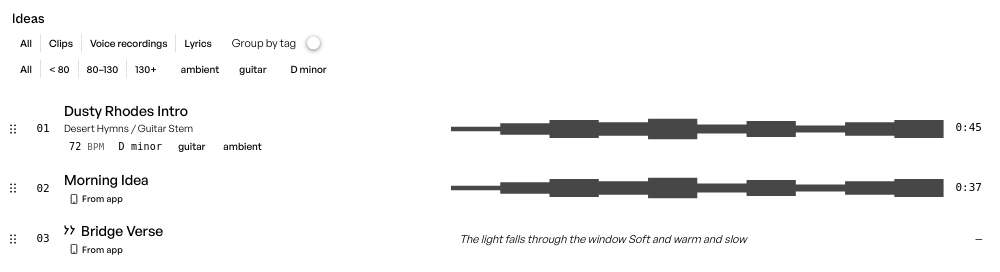
IdeasLibrary — kind segmented › BPM filter hides when Voice is selected, shows when All
Click the radio button labelled "Voice recordings" at (129, 43), box [82, 34, 176, 52]
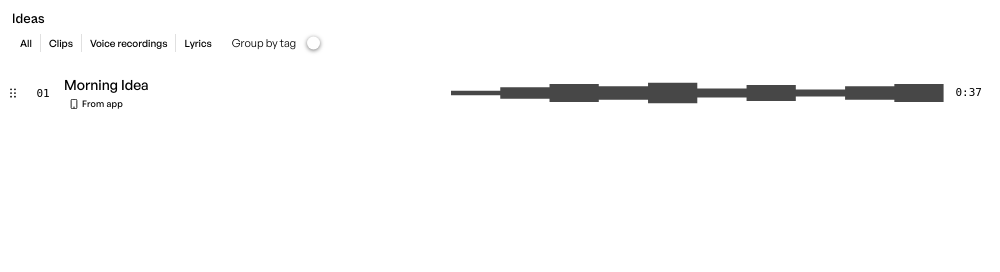
Click the radio button labelled "All" at (26, 43), box [12, 34, 41, 52]
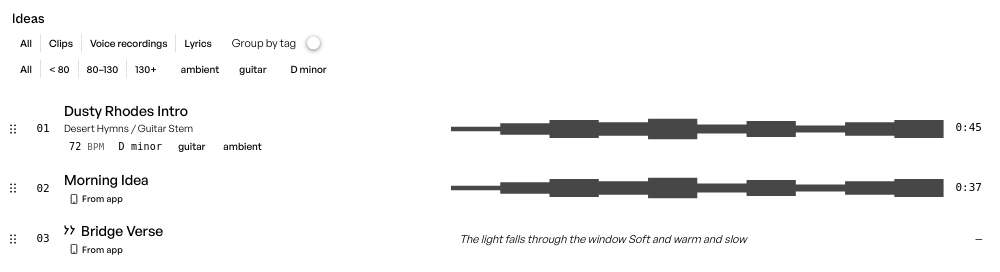
Expected: the element named "BPM filter" is shown, [12, 60, 165, 78]
